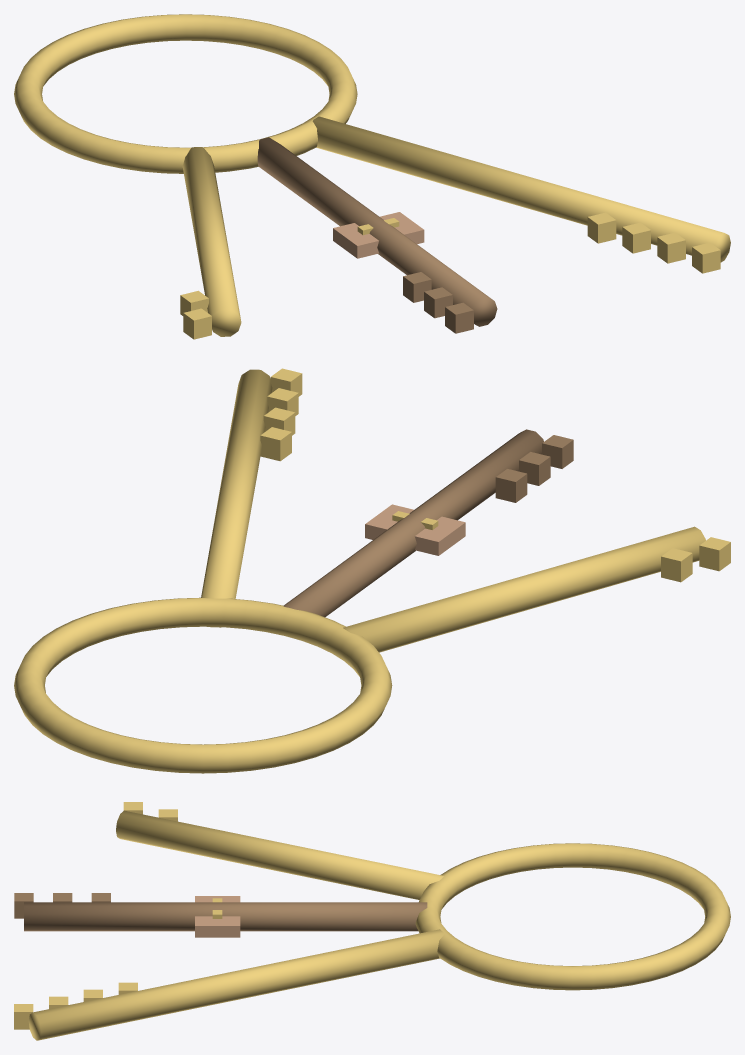
Rendered from prop_h05.glb.
3 renders of one model, top to bottom at view 1: azimuth 30°, elevation 25°; view 2: azimuth 150°, elevation 25°; view 3: azimuth 270°, elevation 25°, orthographic. The views are drawn at different scales.
Visible parts, largest first — view 1: Prop_H05; view 2: Prop_H05; view 3: Prop_H05.
Boxes of the visible parts, x1,y1,x2,y2 form: Prop_H05: [14, 14, 730, 339]; Prop_H05: [14, 368, 730, 773]; Prop_H05: [14, 802, 730, 1040].
Size of the model in its own units: 1.62 by 0.0856 by 2.22.
